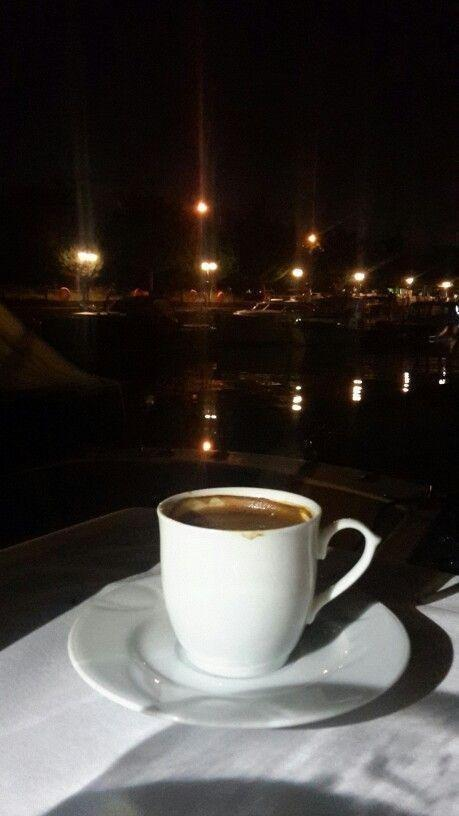cup-handle: (155, 485, 380, 681)
